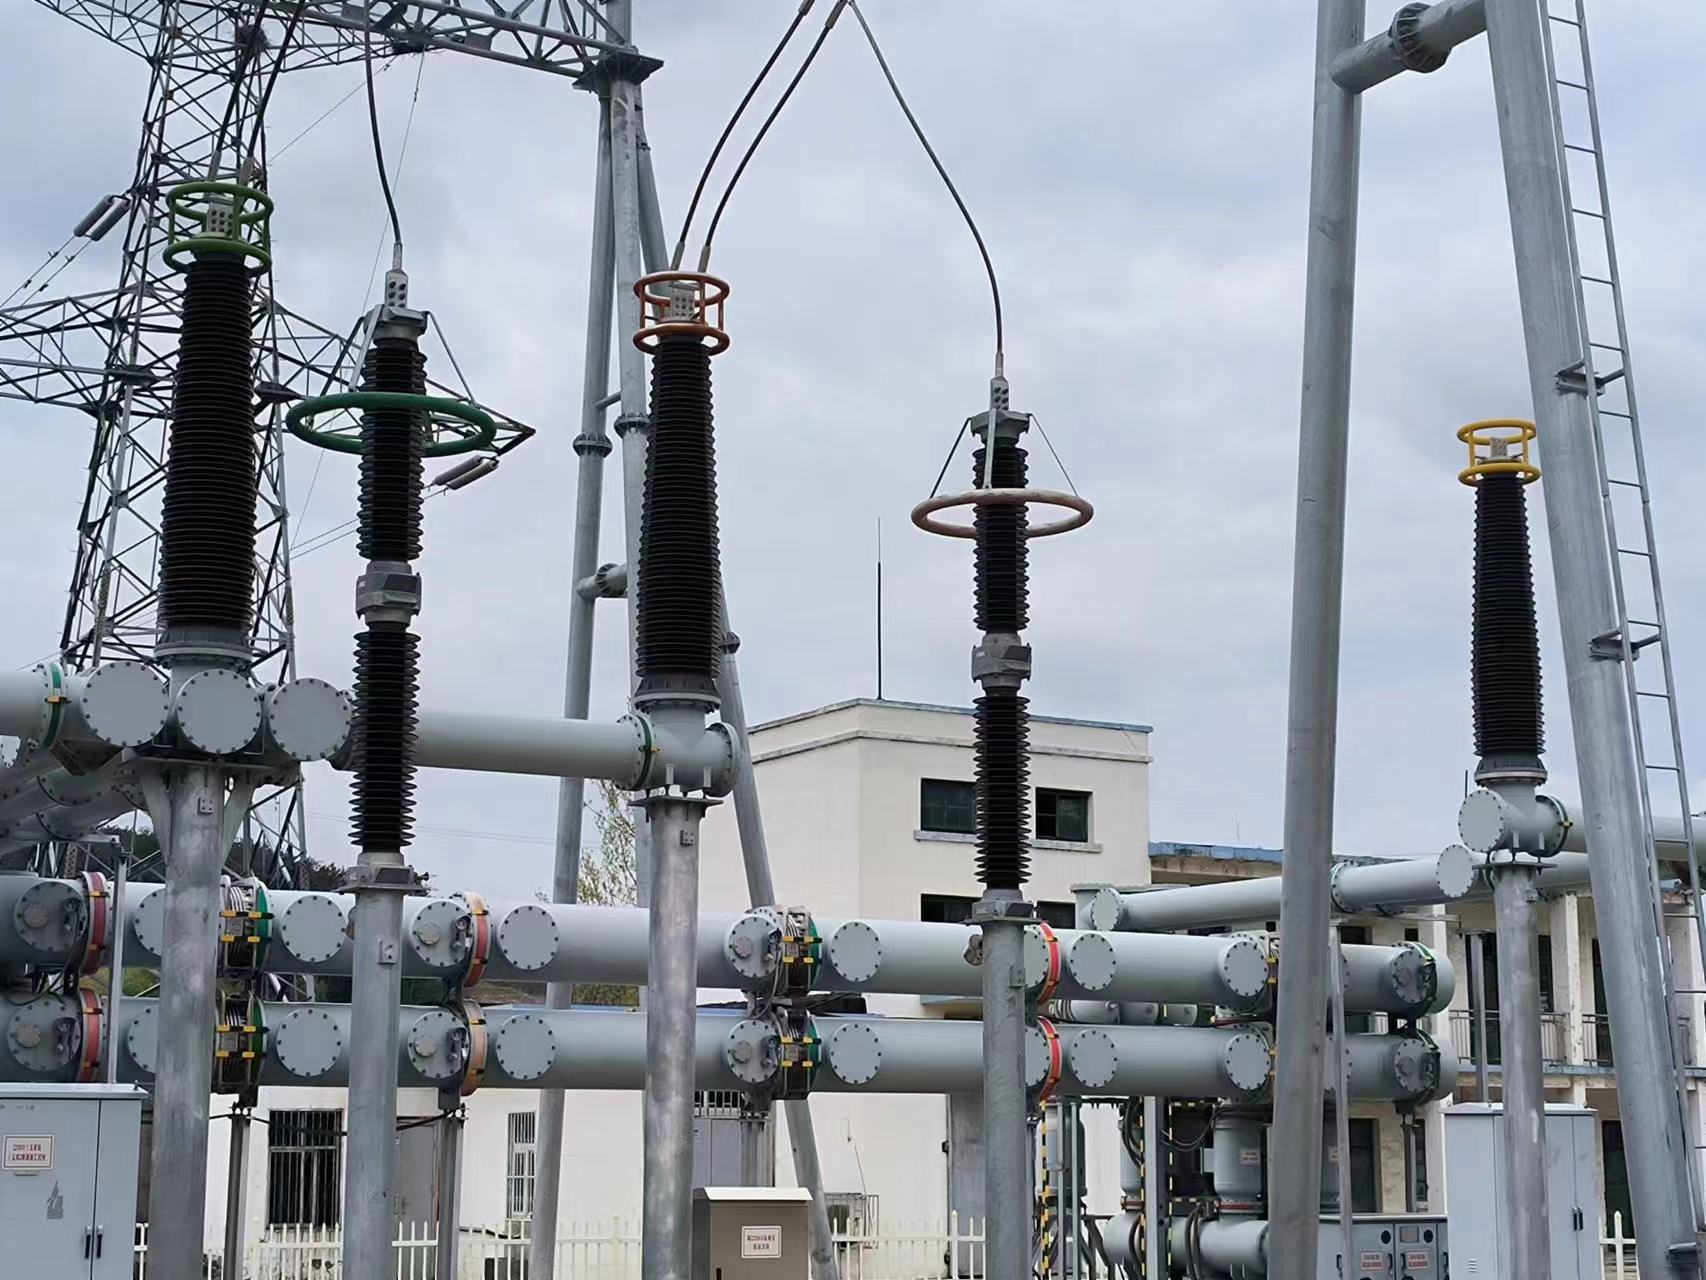Arrester: (286, 303, 496, 878), (907, 399, 1097, 925)
Voltage transformer: (152, 179, 273, 667), (628, 272, 731, 706), (1451, 417, 1549, 778)
